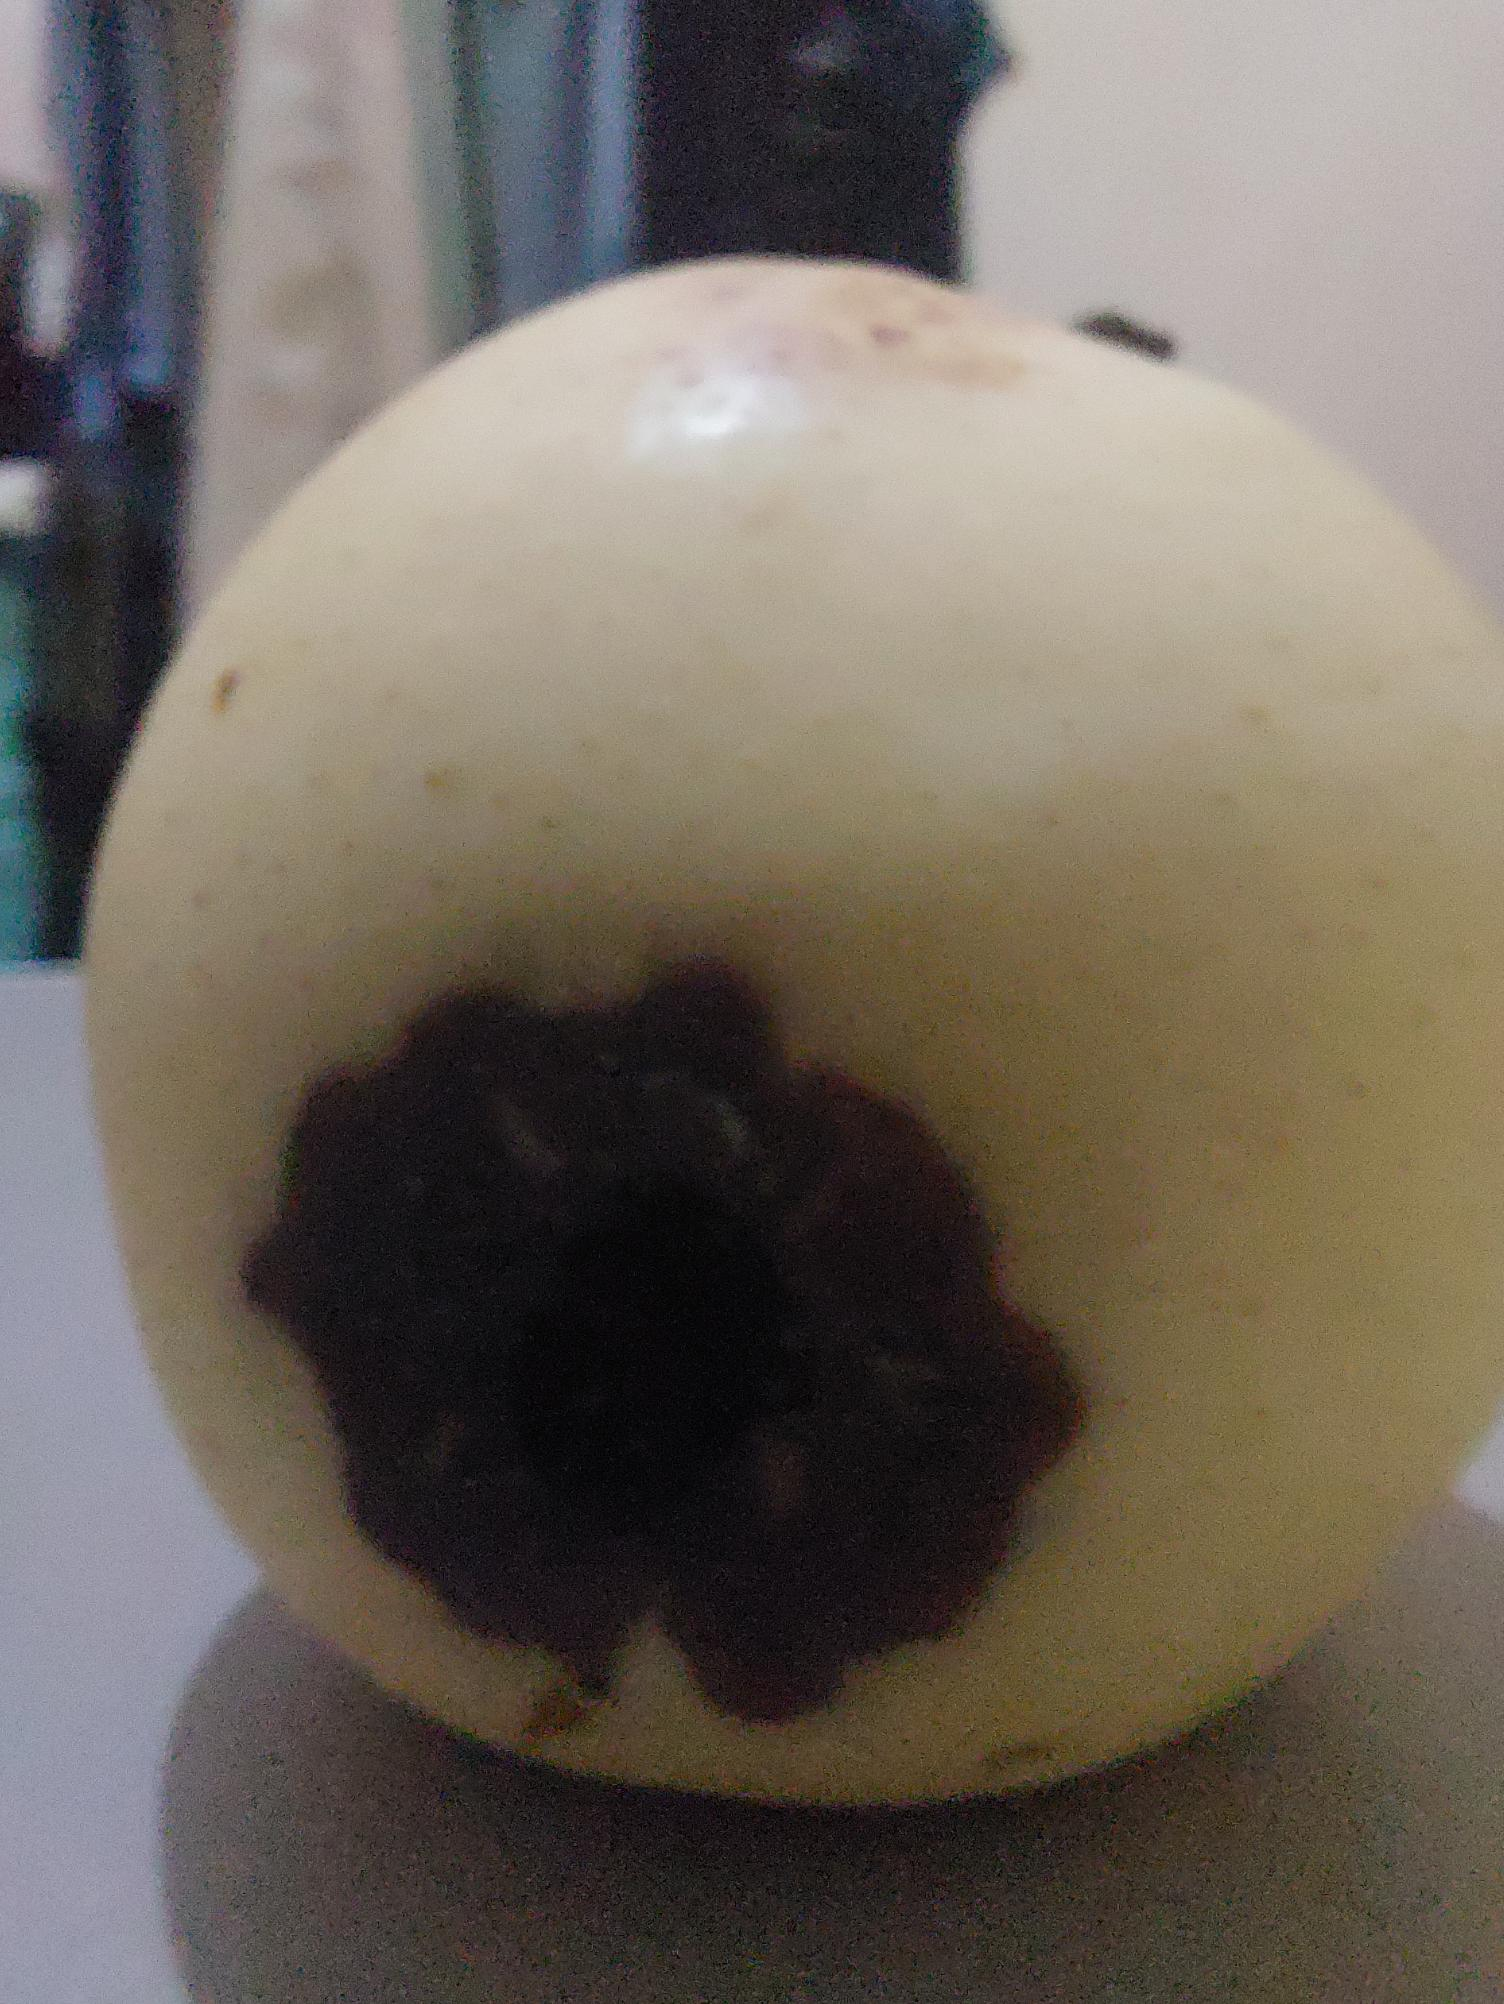Bad Pear: (88, 531, 1416, 1777)
